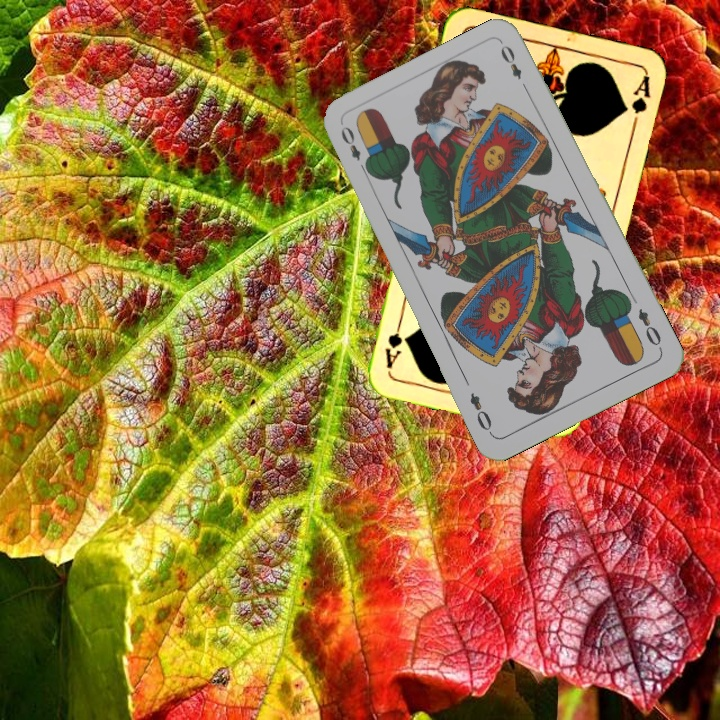EO: (336, 122, 372, 177), (634, 304, 665, 353)
